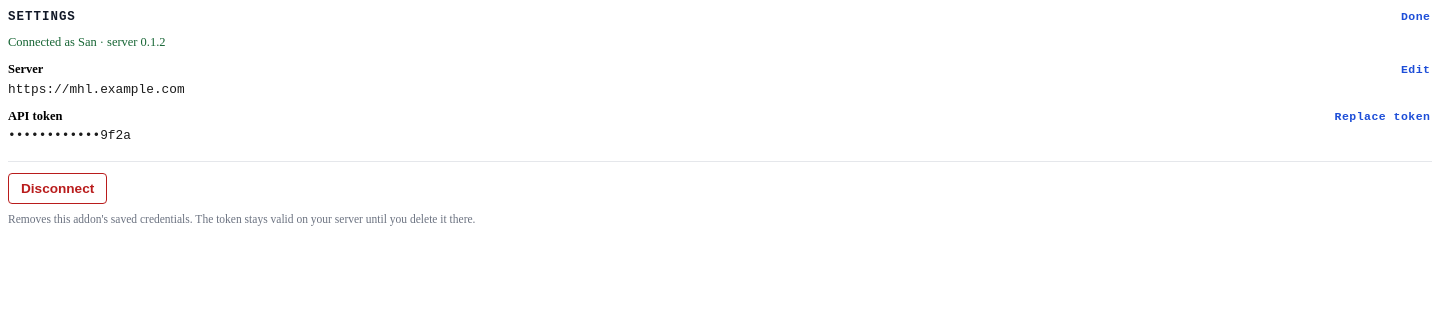
Test: SettingsPanel › a failed verify shows a typed error and stays in edit mode
This screenshot has width=1440, height=328.
Click the button with class "linkbtn" showing "Replace token" at coordinates (1382, 116), box [1333,108,1432,124]
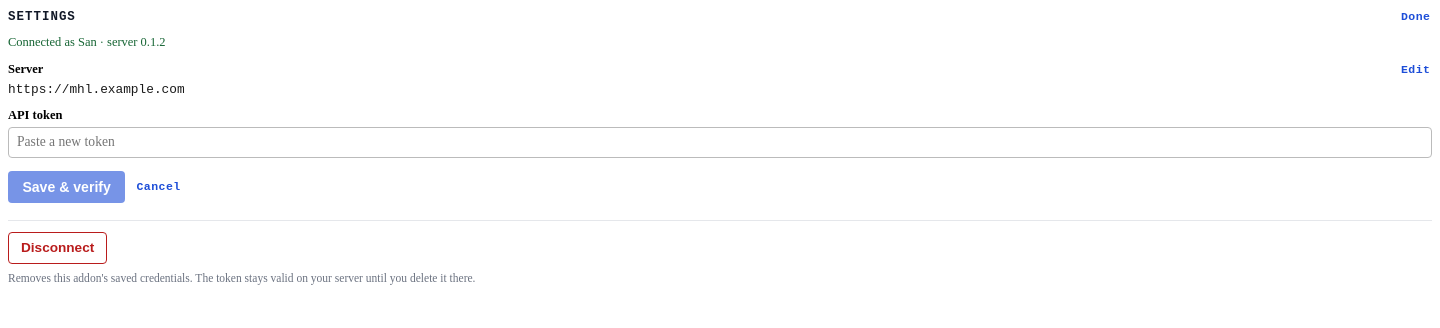
Type "bad" into the password field with placeholder "Paste a new token" at coordinates (720, 142), box [8,127,1432,158]
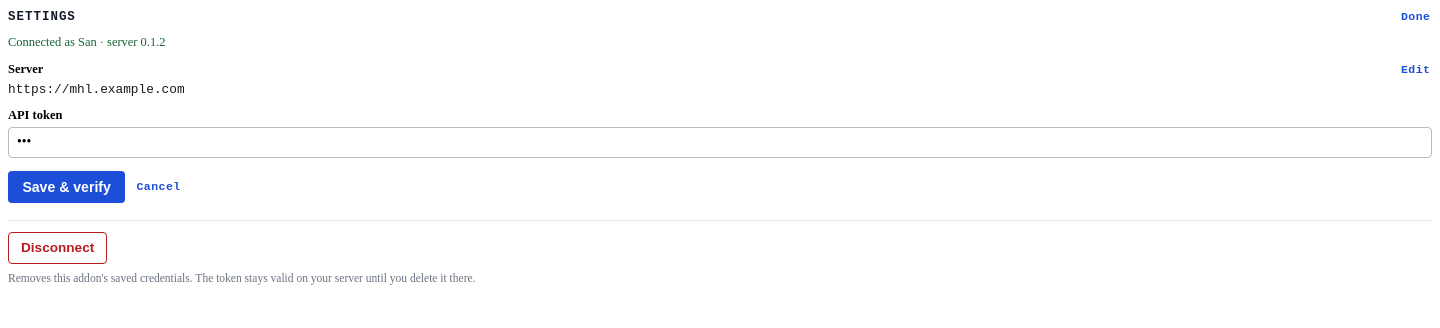
Click the button "Save & verify" at coordinates (67, 186), box [8,170,125,202]
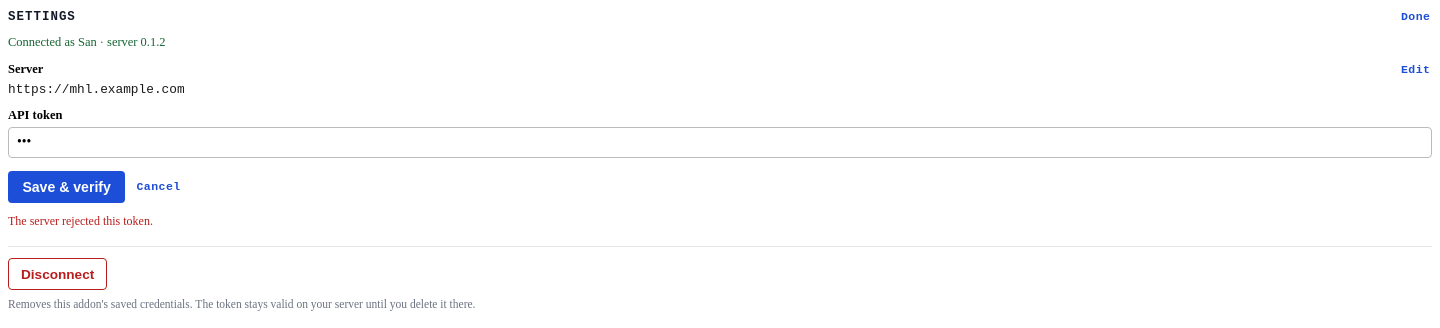
Now the text with class "field-error" shows "rejected this token", box [8,214,153,228]
